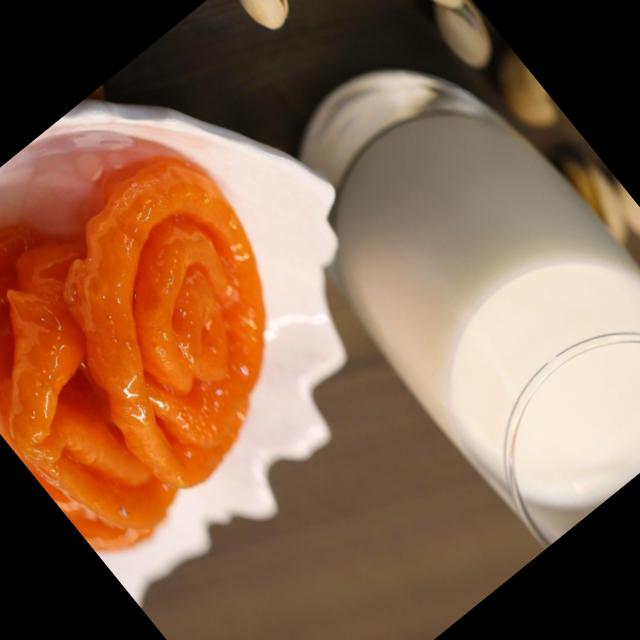jalebi: (0, 71, 353, 558)
